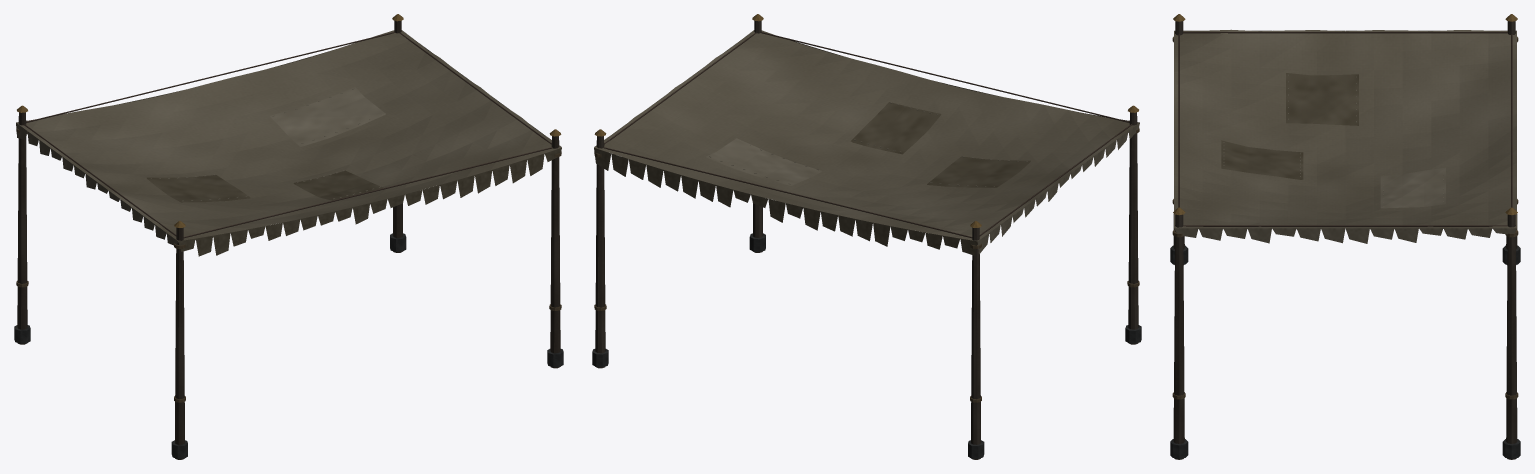
File: env_tarp_canopy.fbx
3 renders of one model, left to right at view 1: azimuth 30°, elevation 25°; view 2: azimuth 150°, elevation 25°; view 3: azimuth 270°, elevation 25°, orthographic. The views are drawn at different scales.
Visible parts, largest first — view 1: env_tarp_canopy; view 2: env_tarp_canopy; view 3: env_tarp_canopy.
Boxes of the visible parts, x1,y1,x2,y2 form: env_tarp_canopy: (14, 14, 563, 459); env_tarp_canopy: (592, 14, 1141, 459); env_tarp_canopy: (1170, 14, 1520, 459).
Size of the model in its own units: 380 by 280 by 220.
Materials: 1 (1 with a texture image).
